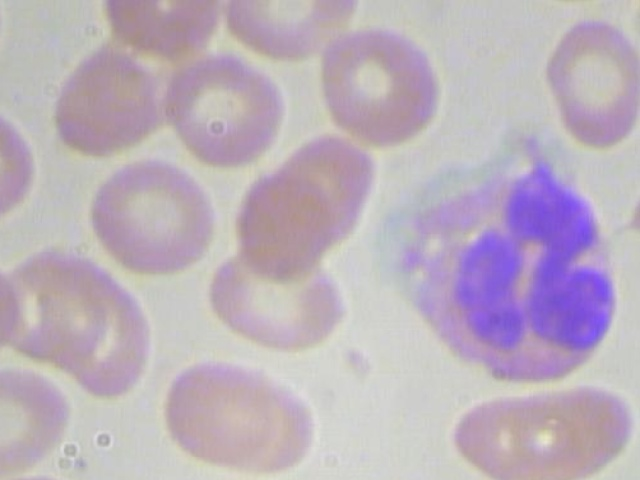RBC: (438, 377, 640, 480), (322, 11, 445, 153), (211, 157, 345, 286), (153, 343, 286, 472), (85, 150, 219, 278), (41, 42, 170, 154), (157, 52, 286, 164), (540, 8, 640, 150), (208, 0, 373, 61), (97, 0, 226, 53)
WBC: (376, 125, 621, 389)
